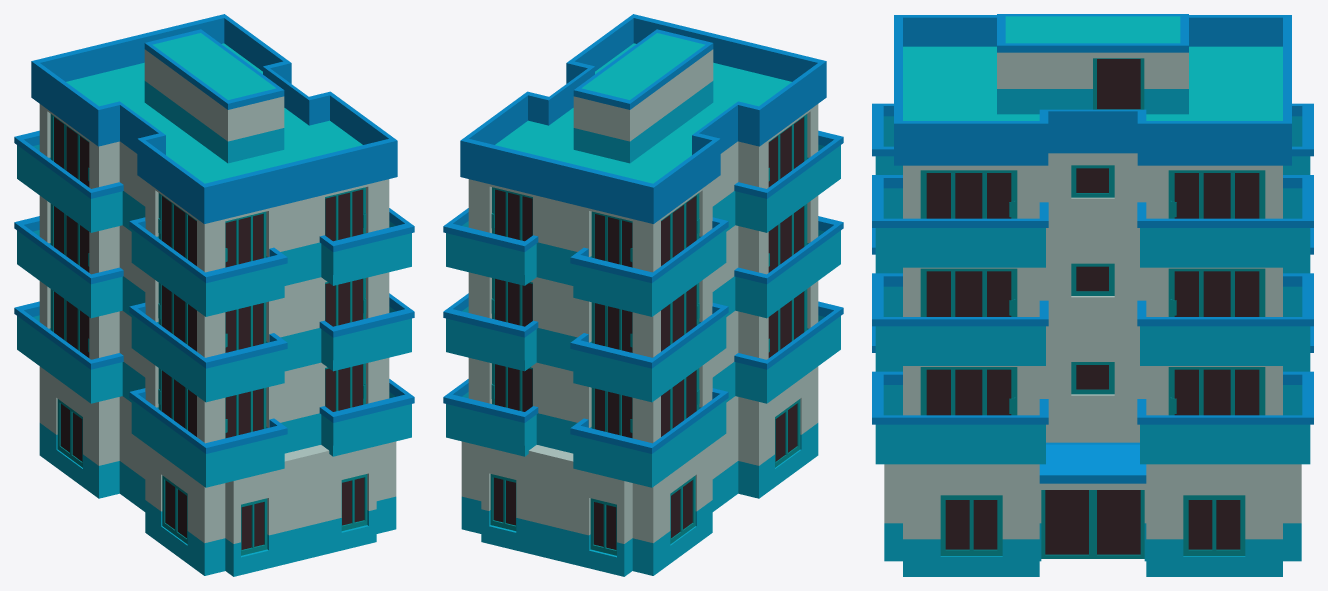
File: edificio2 (2x1).fbx
The picture shows the model from 3 angles, left to right: view 1: azimuth 30°, elevation 25°; view 2: azimuth 150°, elevation 25°; view 3: azimuth 270°, elevation 25°; orthographic projection. The views are drawn at different scales.
Visible parts, largest first — view 1: PublicBuilding_8; view 2: PublicBuilding_8; view 3: PublicBuilding_8.
Part boxes in pixels (<box>): PublicBuilding_8: <box>14,14,414,576</box>; PublicBuilding_8: <box>443,14,843,576</box>; PublicBuilding_8: <box>872,14,1313,576</box>.
Bounding box in the file's own units: 138 × 269 × 219.
